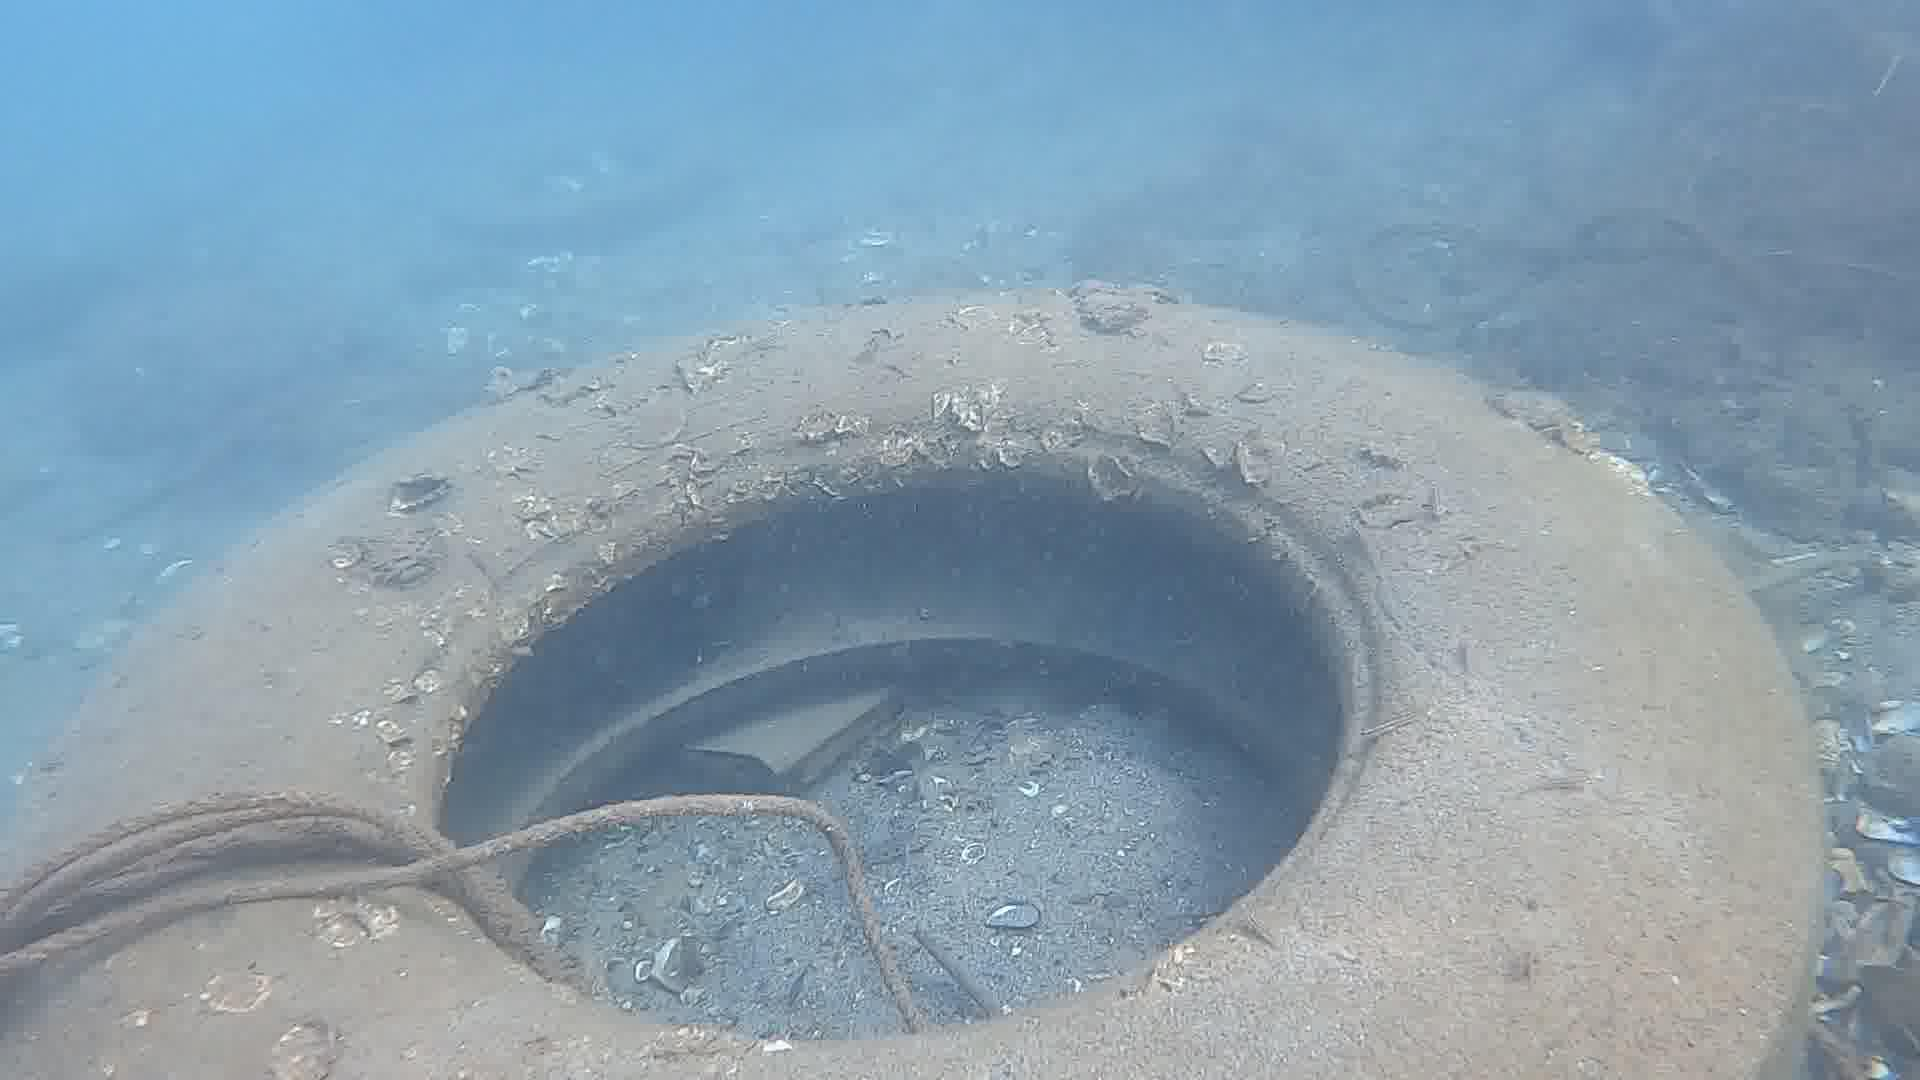bundle of ropes: (0, 790, 926, 1080)
tire: (4, 293, 1828, 1080)
